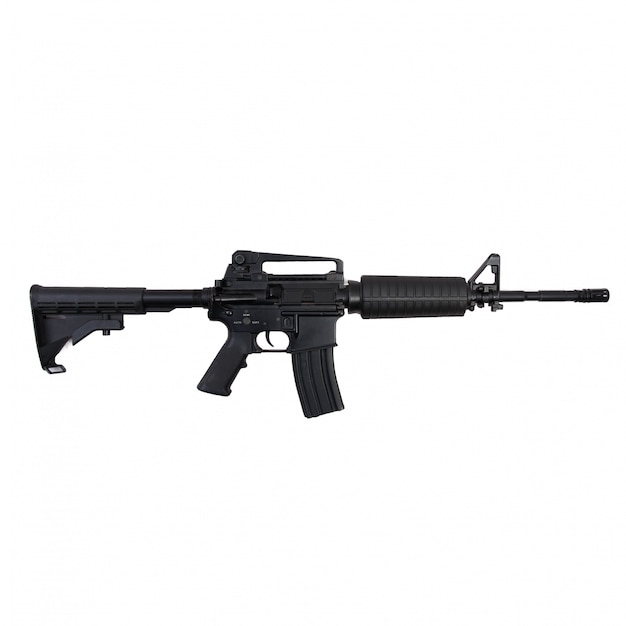gun: (26, 246, 612, 421)
